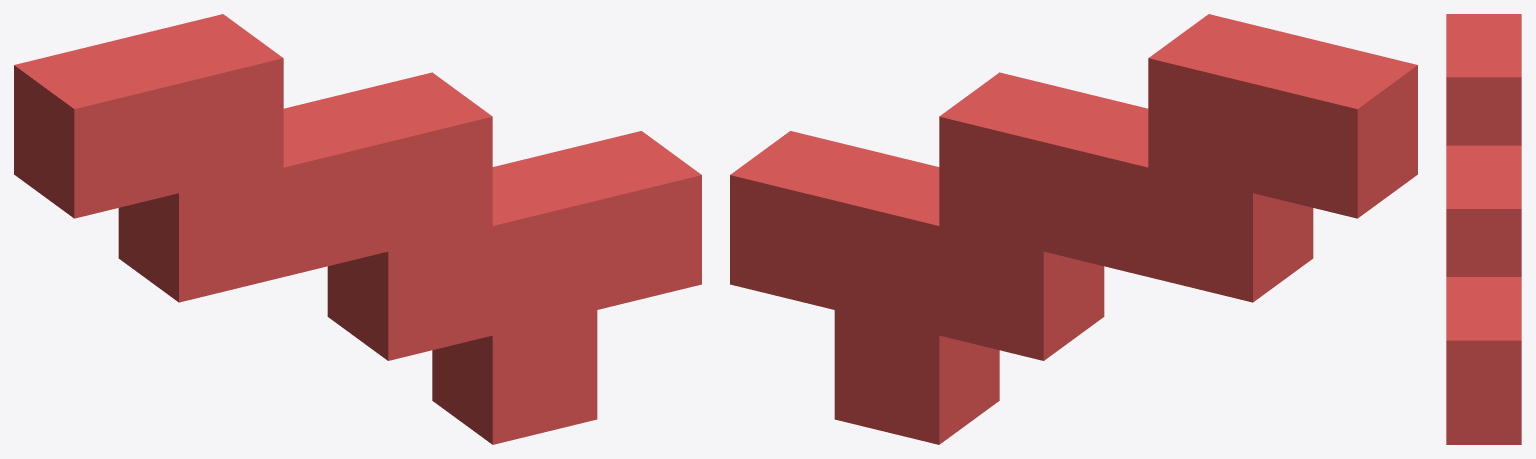
File: Lightning-Small-Pink.vox.obj
The picture shows the model from 3 angles, left to right: view 1: azimuth 30°, elevation 25°; view 2: azimuth 150°, elevation 25°; view 3: azimuth 270°, elevation 25°; orthographic projection. The views are drawn at different scales.
Bounding box in the file's own units: 0.6 × 0.4 × 0.1.
Materials: 1 (1 with a texture image).
